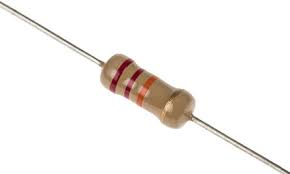resistor: (88, 53, 210, 134)
